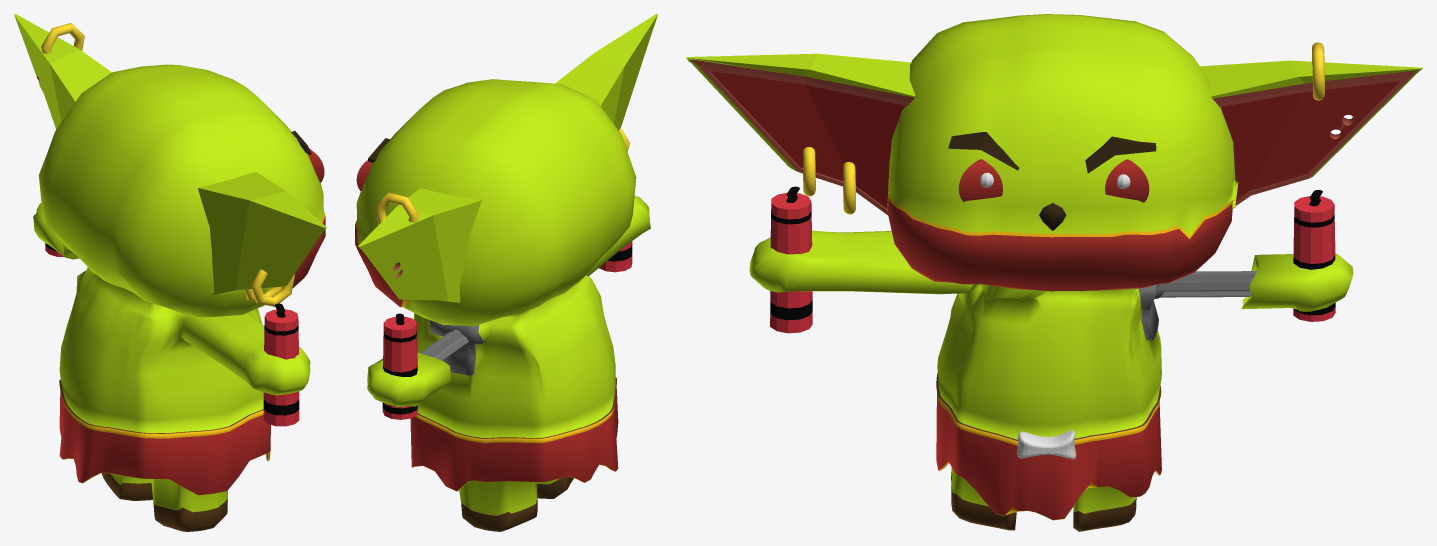
File: goblbimb5.fbx
3 renders of one model, left to right at view 1: azimuth 30°, elevation 25°; view 2: azimuth 150°, elevation 25°; view 3: azimuth 270°, elevation 25°, orthographic. The views are drawn at different scales.
Visible parts, largest first — view 1: Cube.003; view 2: Cube.003; view 3: Cube.003.
Part boxes in pixels (bbox=[...]): Cube.003: bbox=[14, 14, 326, 531]; Cube.003: bbox=[355, 14, 657, 531]; Cube.003: bbox=[686, 14, 1422, 531].
Size of the model in its own units: 68.99 by 164 by 123.
